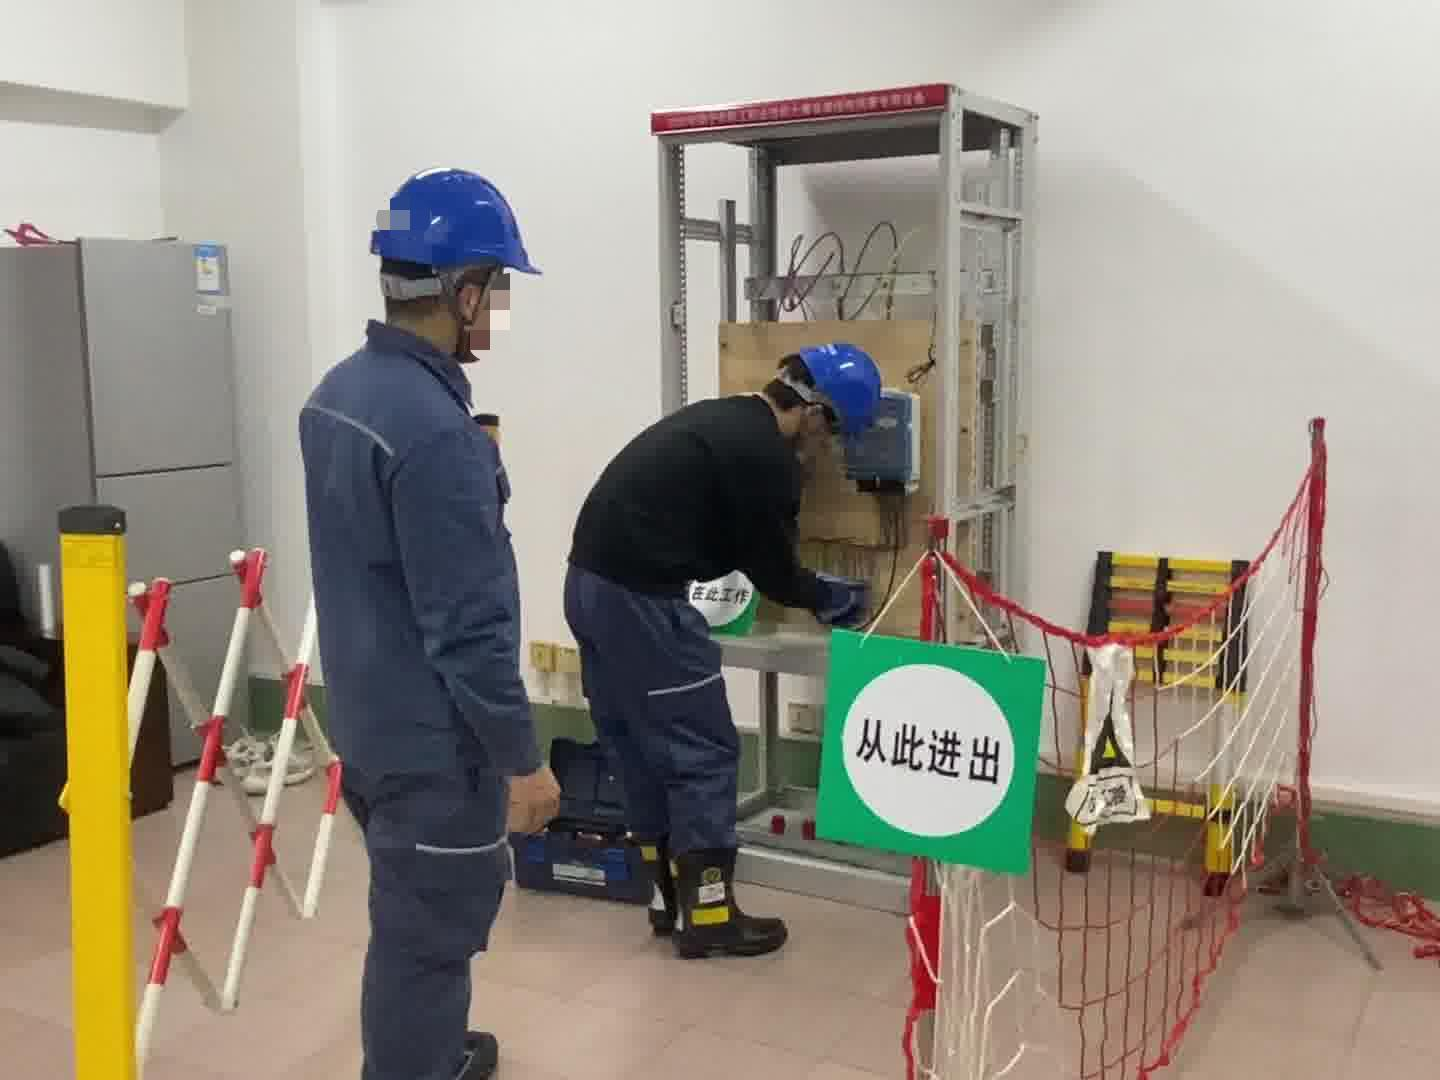halt: (367, 170, 545, 362), (763, 346, 889, 459)
inear: (443, 270, 494, 343)
